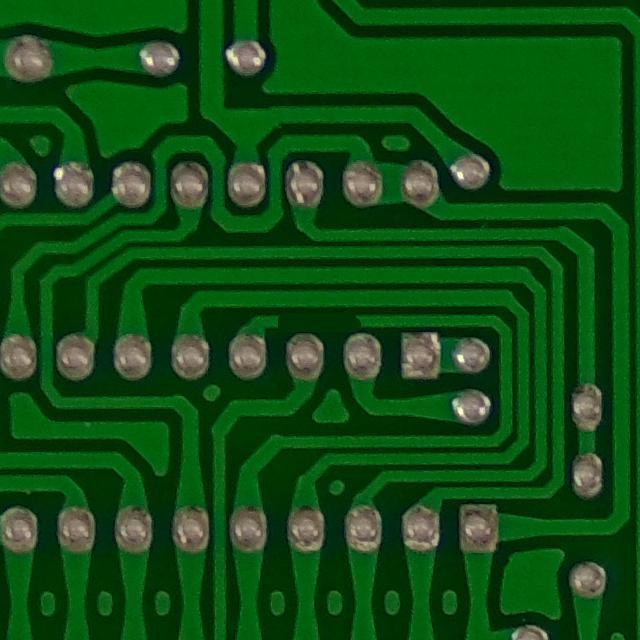open_circuit: (269, 309, 372, 332)
